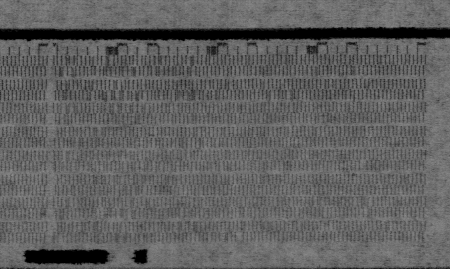Broken hole: (232, 231, 247, 245)
Oblique printing: (50, 124, 247, 246), (50, 53, 244, 124), (260, 50, 382, 103)
